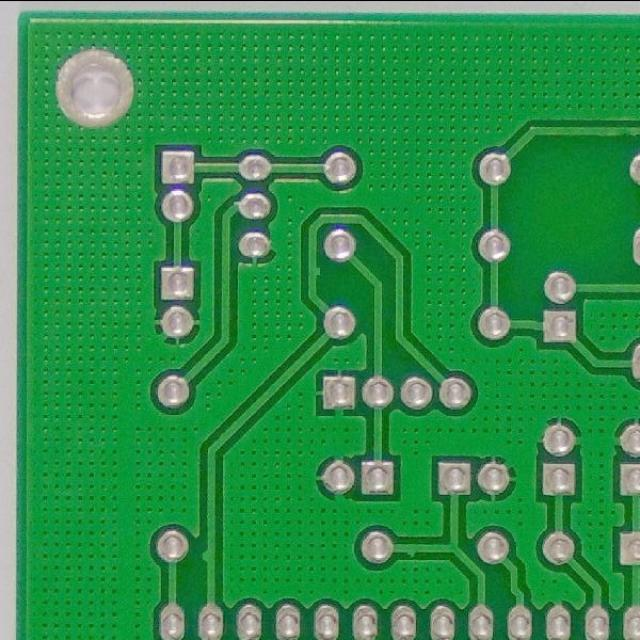spur: (193, 541, 220, 573), (397, 535, 424, 560), (302, 257, 325, 282)
